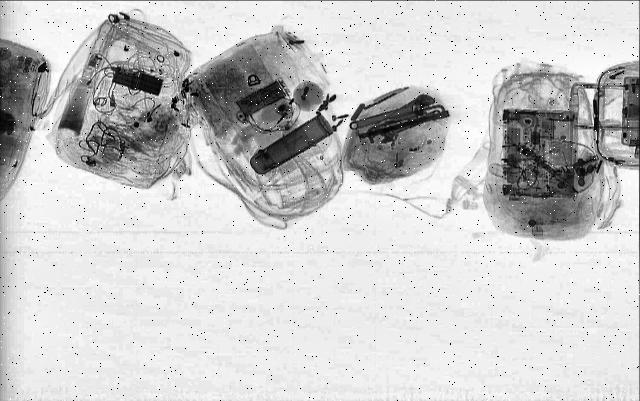Wrench: (339, 93, 438, 133), (358, 105, 448, 147)
